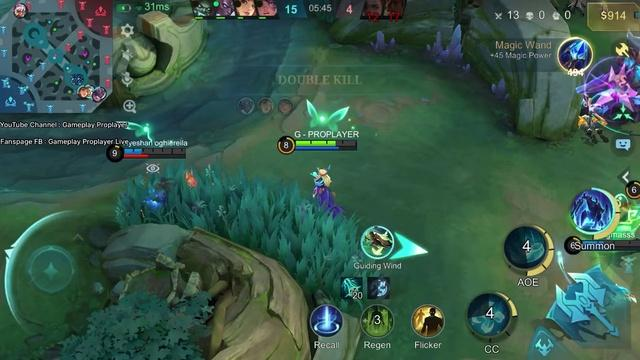bush: (96, 82, 260, 250)
hp_self: (294, 140, 357, 146)
